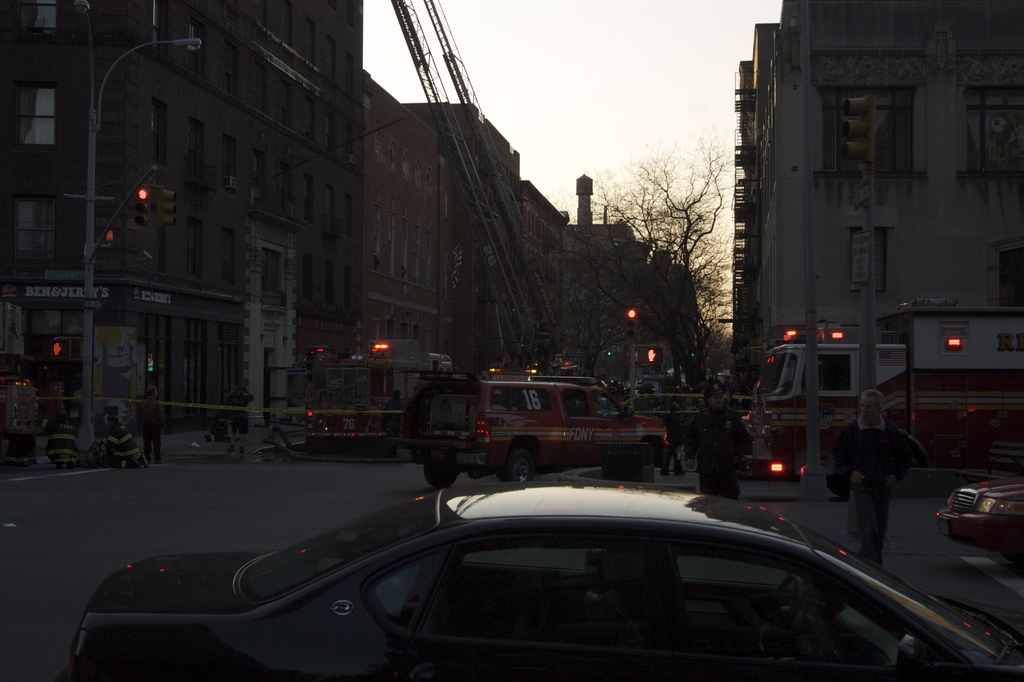Car: (50, 484, 1023, 681), (385, 369, 669, 489), (938, 474, 1023, 566)
